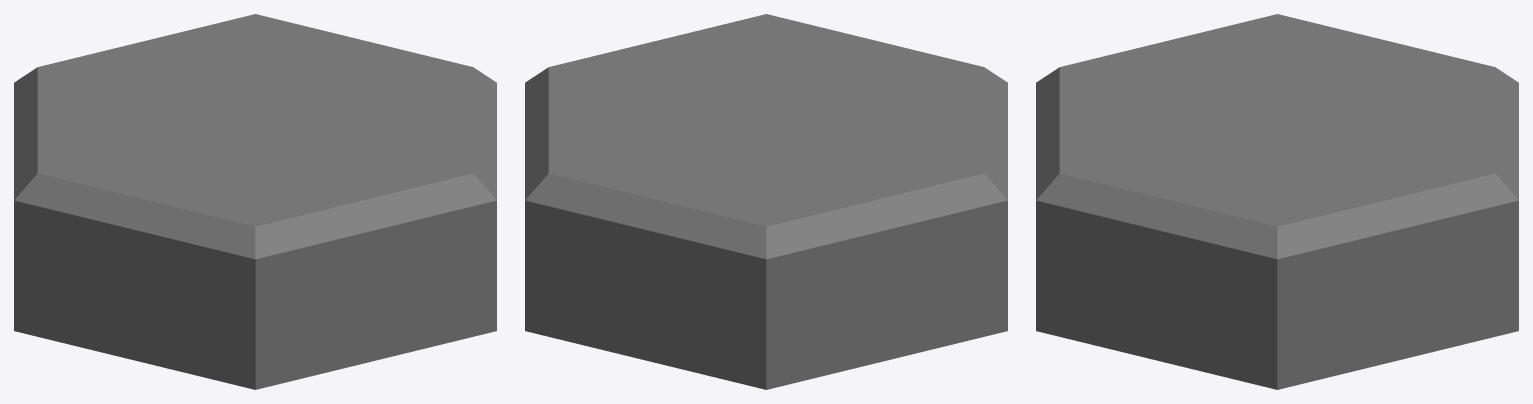
The model's file is rock11.fbx.
3 views of the same model, side by side, from view 1: azimuth 30°, elevation 25°; view 2: azimuth 150°, elevation 25°; view 3: azimuth 270°, elevation 25° (orthographic).
Parts seen in each view (by area): view 1: rock18; view 2: rock18; view 3: rock18.
Boxes of the visible parts, <box> form: rock18: <box>14,14,496,389</box>; rock18: <box>525,14,1007,389</box>; rock18: <box>1036,14,1518,389</box>.
Bounding box in the file's own units: 2348 × 706 × 2033.
Materials: 1 (1 with a texture image).
